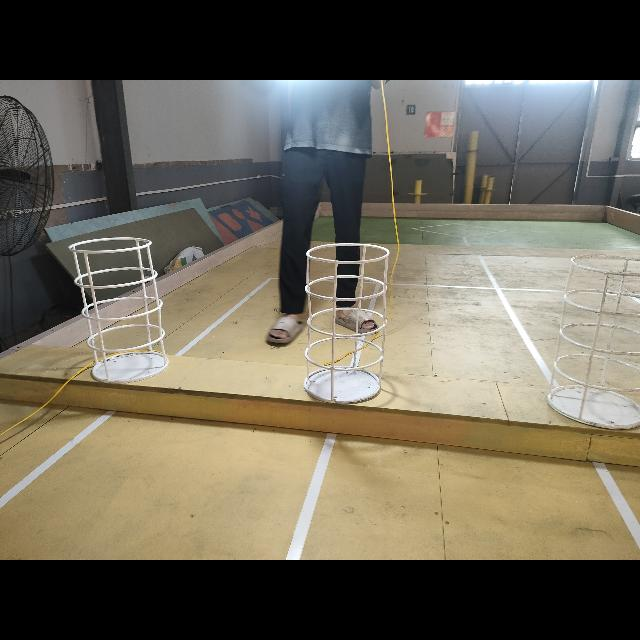S: (64, 232, 176, 391), (546, 242, 640, 430), (305, 235, 391, 412)
